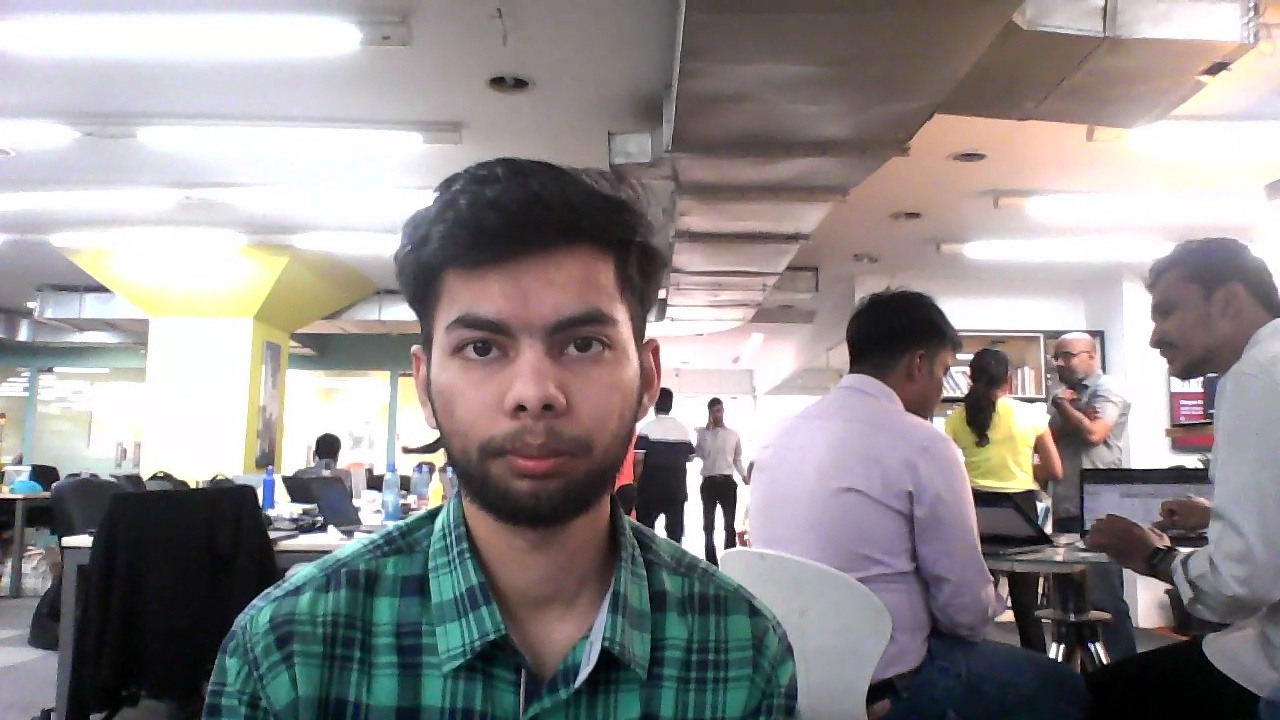open: (395, 168, 663, 535)
